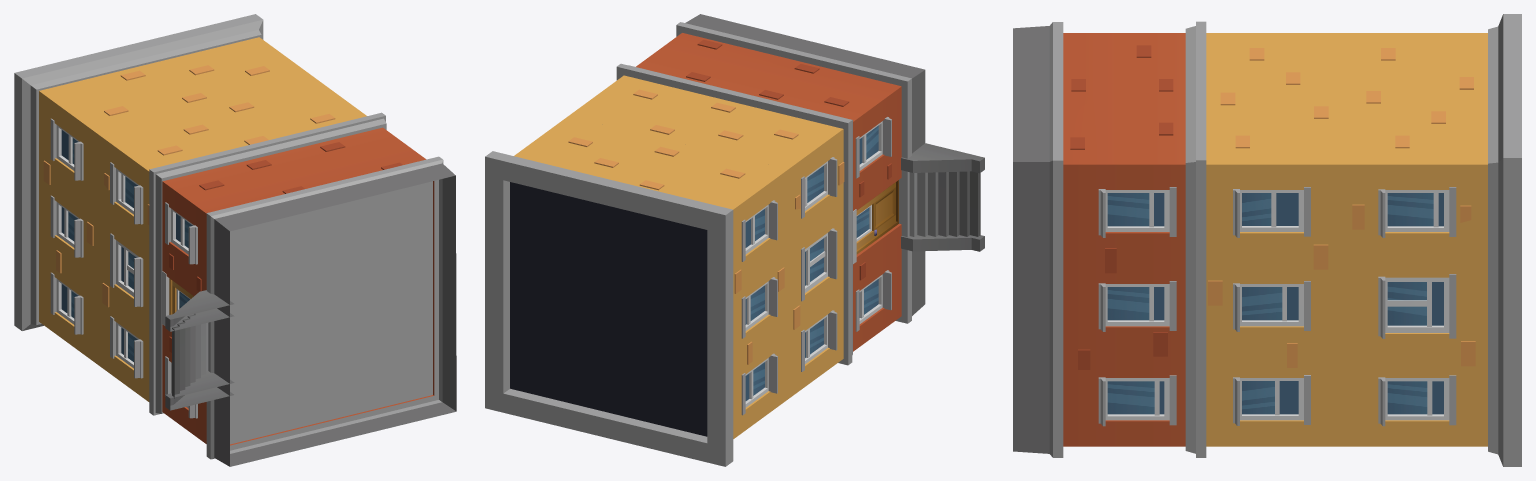
File: Building_2_7_E.fbx
The picture shows the model from 3 angles, left to right: view 1: azimuth 30°, elevation 25°; view 2: azimuth 150°, elevation 25°; view 3: azimuth 270°, elevation 25°; orthographic projection. The views are drawn at different scales.
Visible parts, largest first — view 1: Building_2_7_E; view 2: Building_2_7_E; view 3: Building_2_7_E.
Part boxes in pixels (bbox=[...]): Building_2_7_E: bbox=[14, 14, 456, 466]; Building_2_7_E: bbox=[485, 14, 984, 466]; Building_2_7_E: bbox=[1013, 14, 1521, 466].
Bounding box in the file's own units: 754 × 620 × 926.
